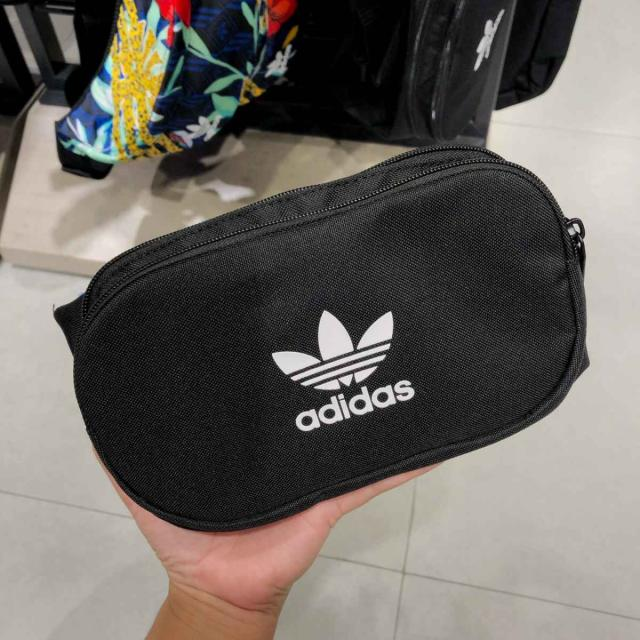handbag: (49, 138, 602, 538)
